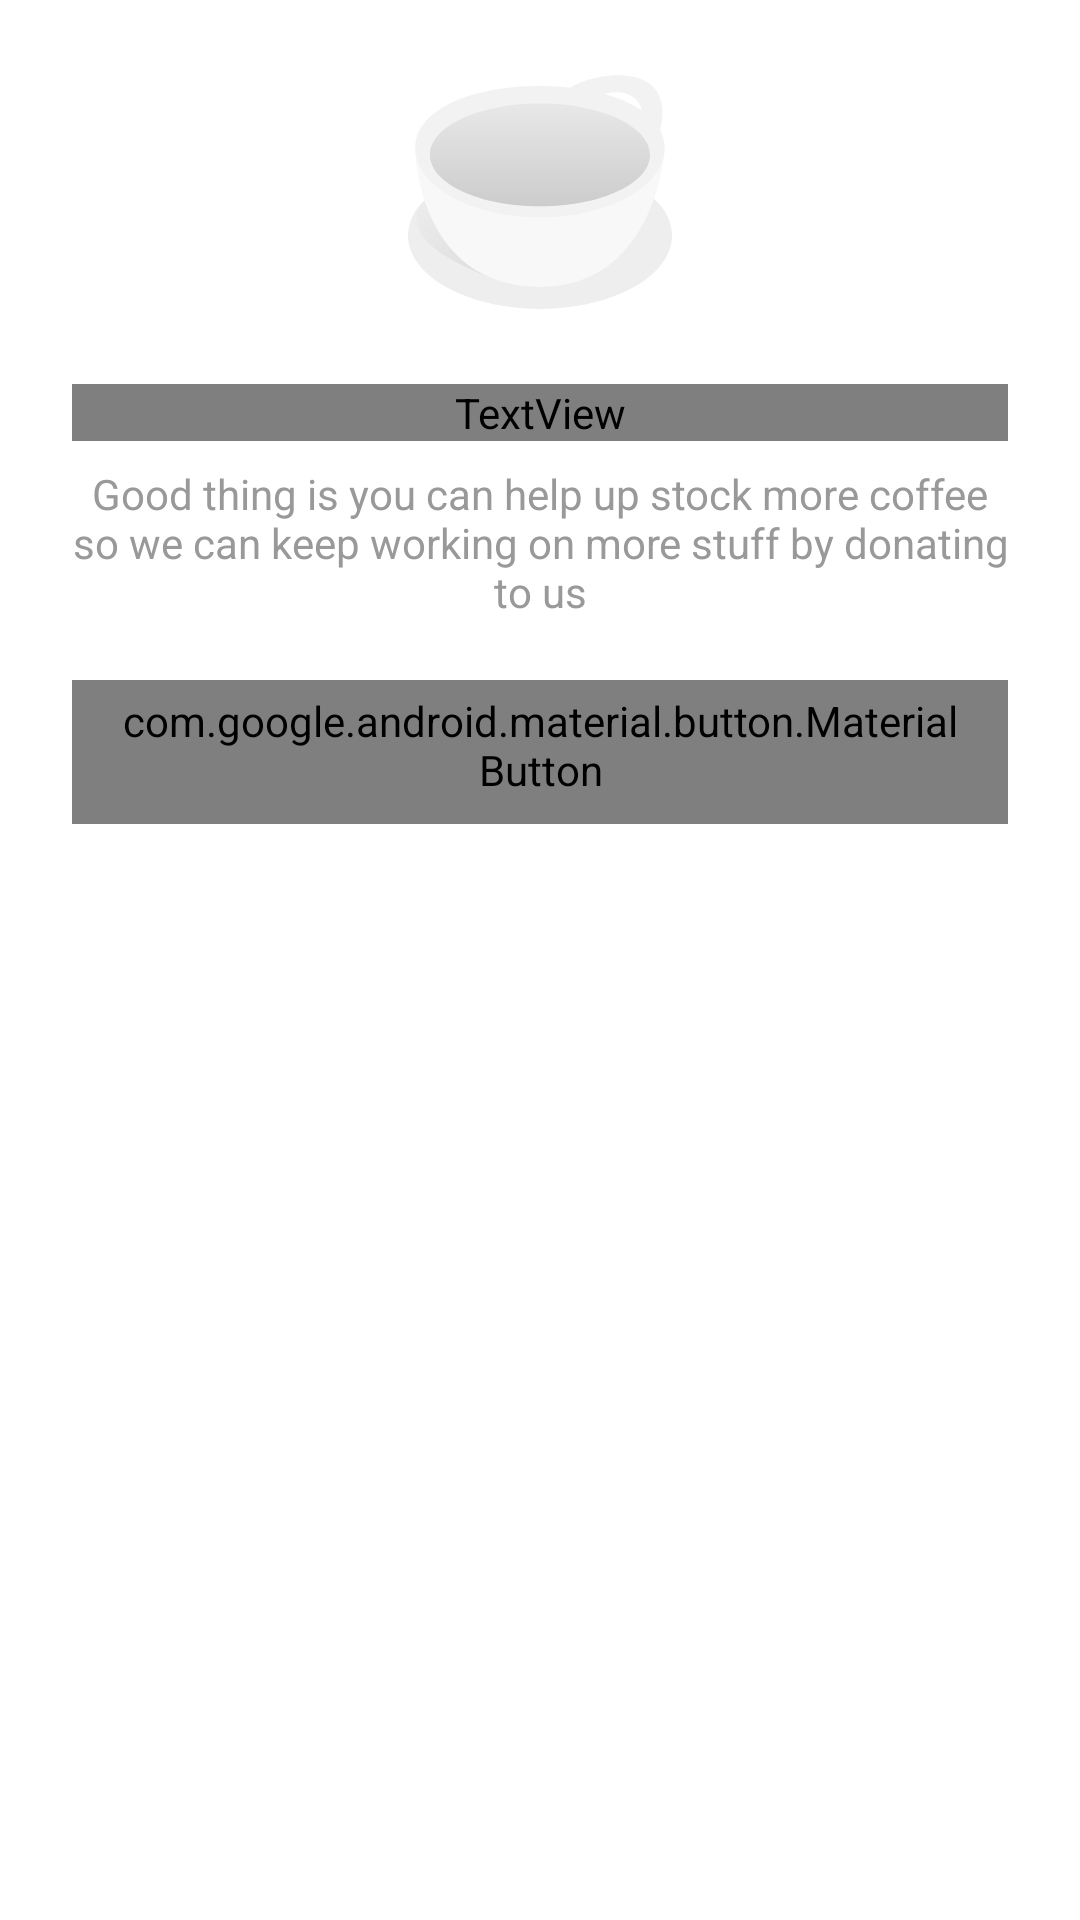

Where to tap for icons on this 1080w x 1920h app screen, as (x=x, y=y):
graphiccoffee: (x=539, y=191)
